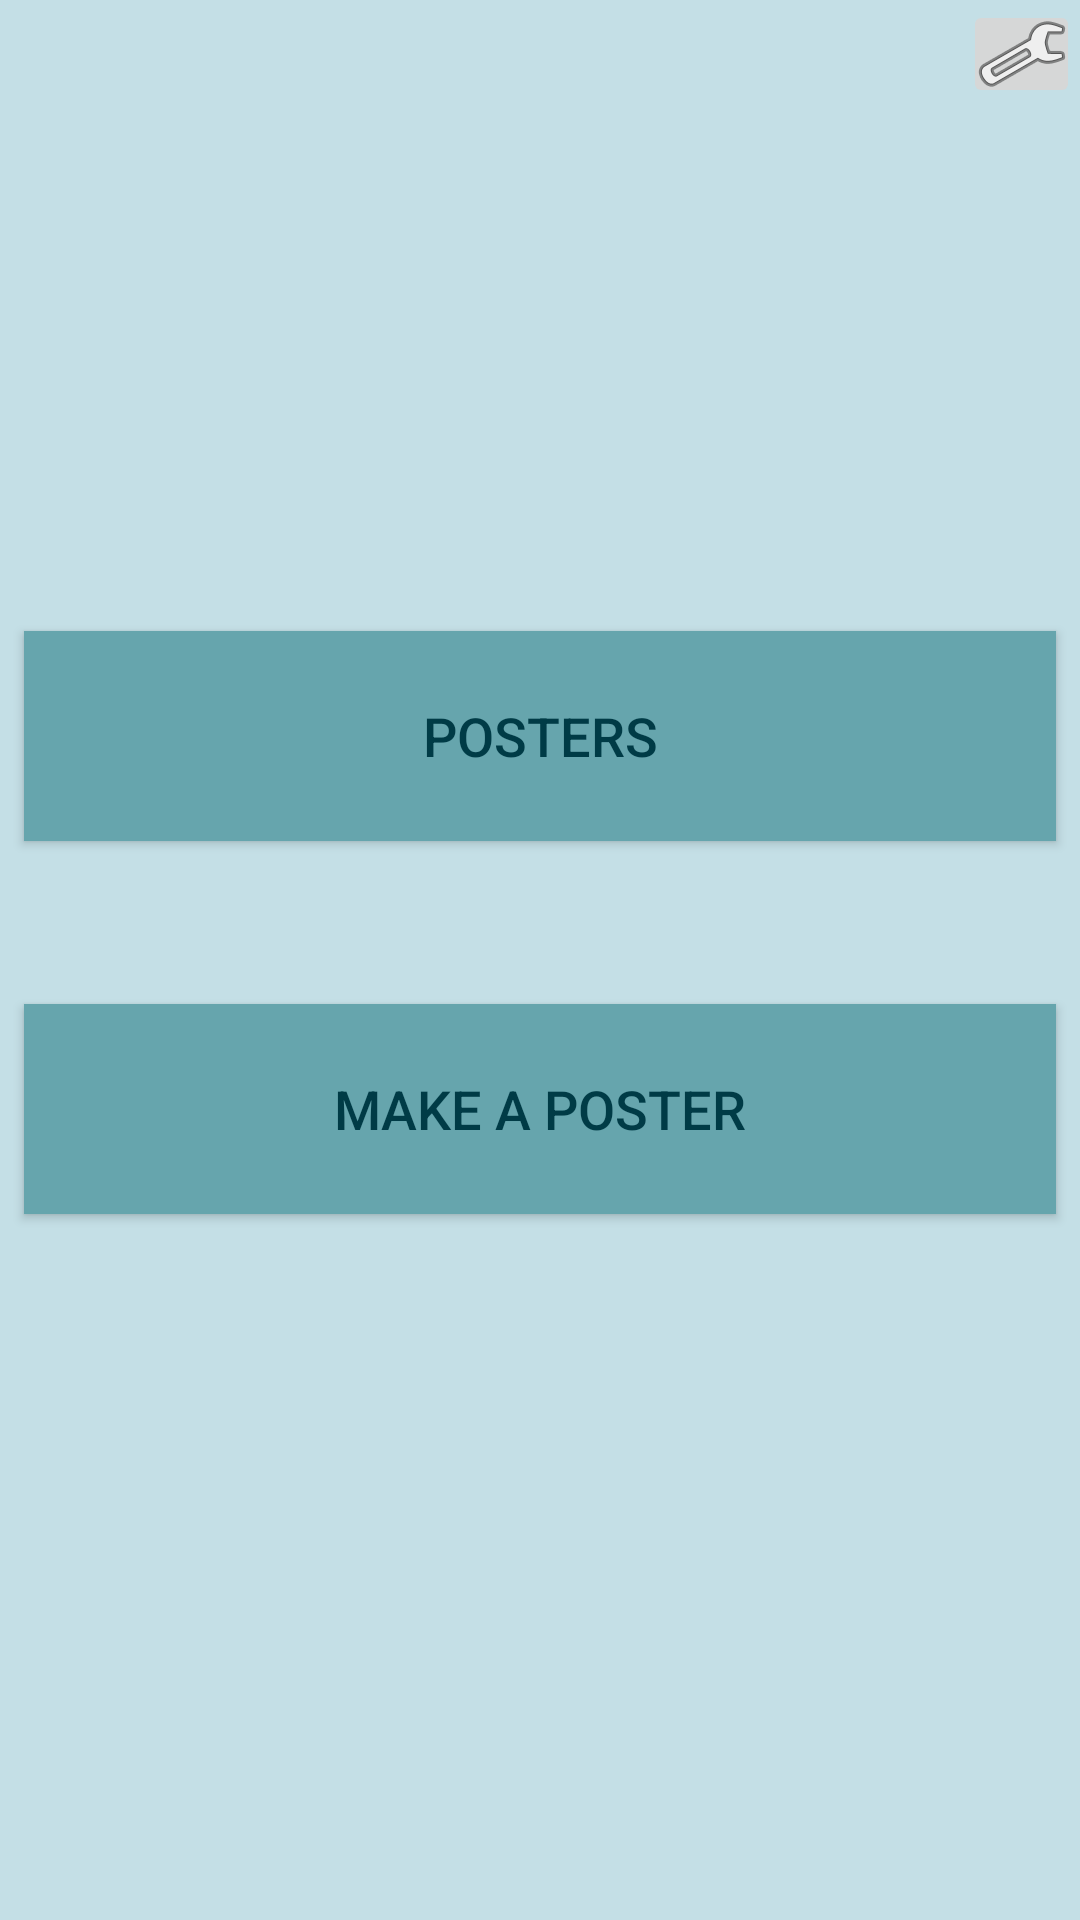

Icons on this 1080px×1920px Android screen, each with the point to tap as (x,y):
preferences: (1021,54)
